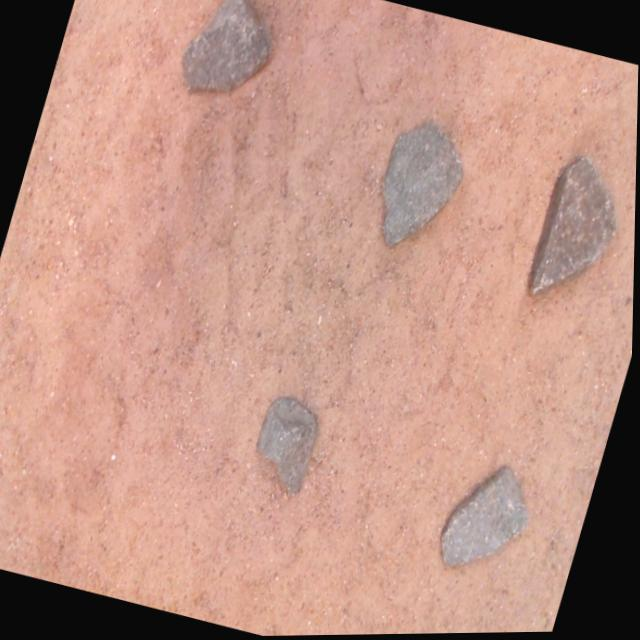rock: (530, 160, 616, 297), (383, 125, 462, 249), (443, 469, 529, 568), (181, 0, 269, 93), (258, 399, 318, 496)
